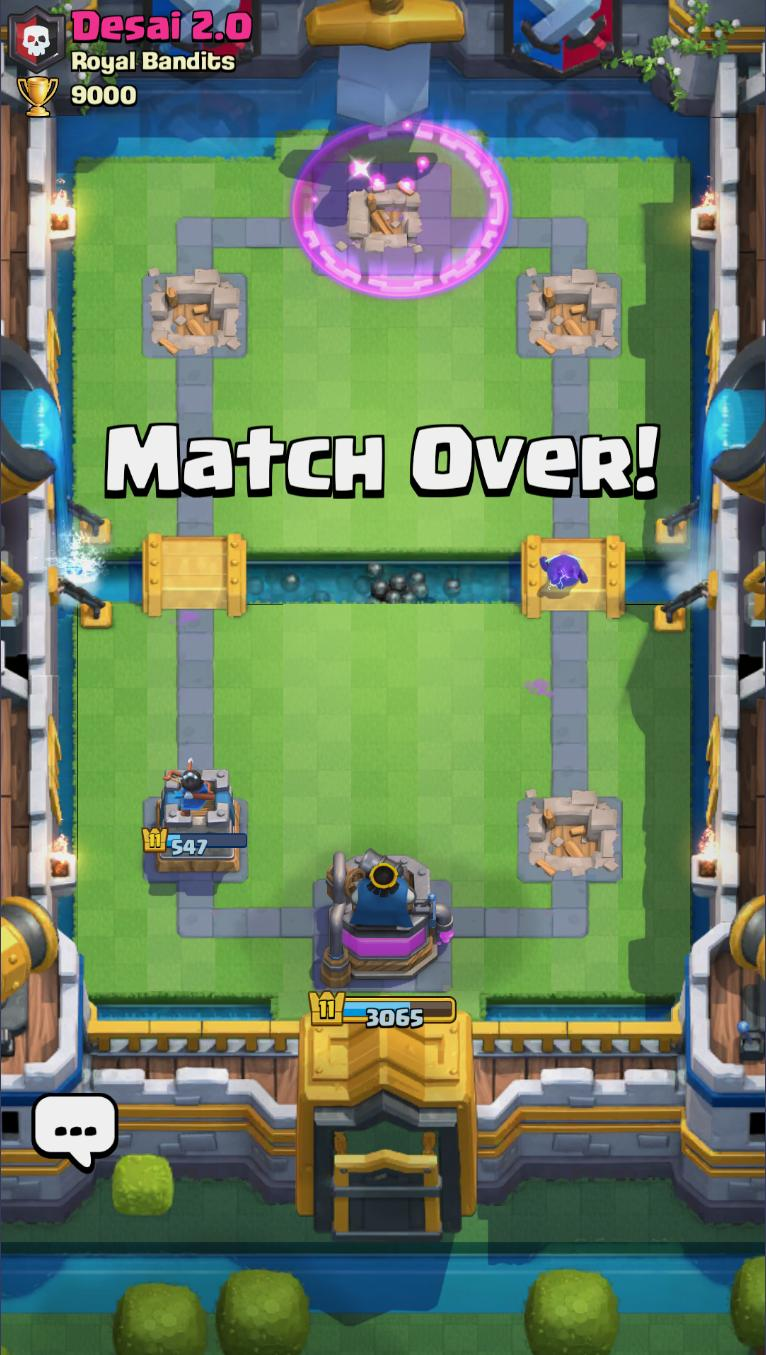EnemyTowerBrocken: (514, 269, 623, 361), (140, 269, 249, 361)
KingTowerBrocken: (312, 157, 456, 280)
MatchOver: (103, 421, 660, 499)
MyElectroSpirit: (537, 550, 593, 594)
MyKingHP: (307, 987, 460, 1033)
MyKingTower: (315, 847, 456, 991)
MyPrincessTower: (140, 765, 252, 882)
MyPrincessTowerBrocken: (515, 789, 625, 888)
MyPrincessTowerHP: (140, 825, 250, 859)
Rage: (294, 119, 511, 298)
